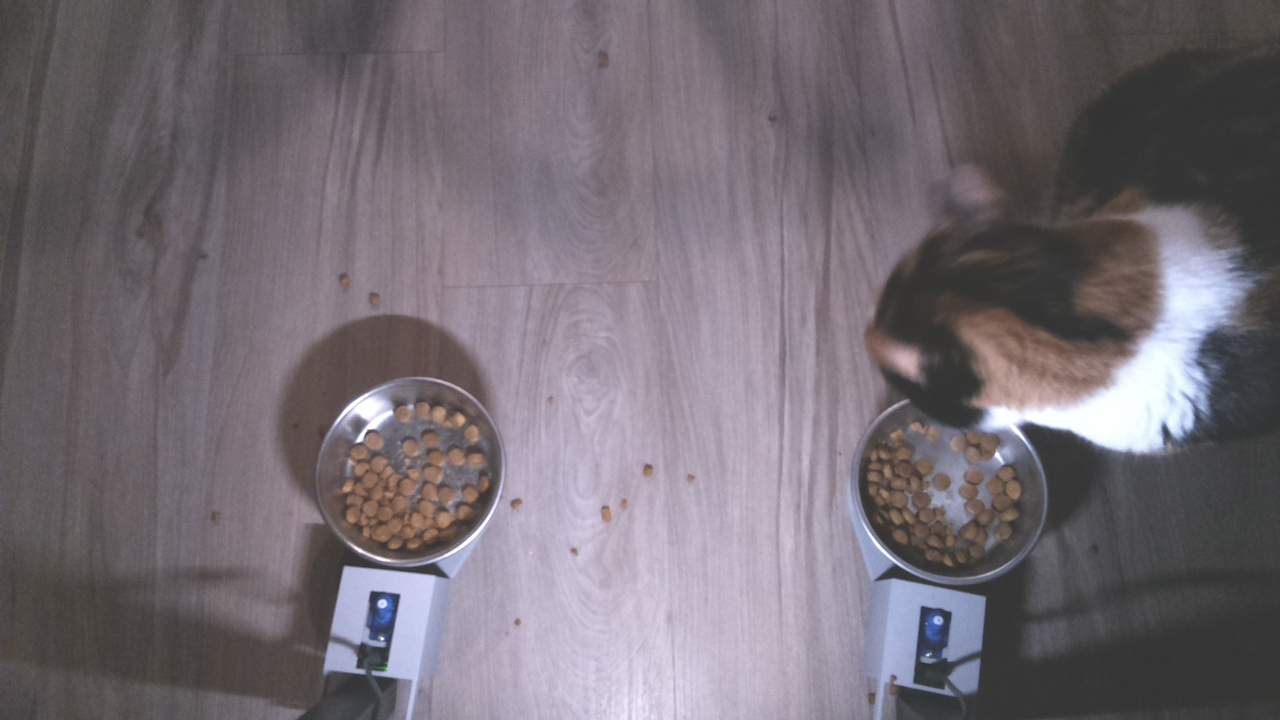bella: (850, 171, 1111, 435)
open_bowl: (308, 372, 506, 569), (847, 406, 1052, 587)
